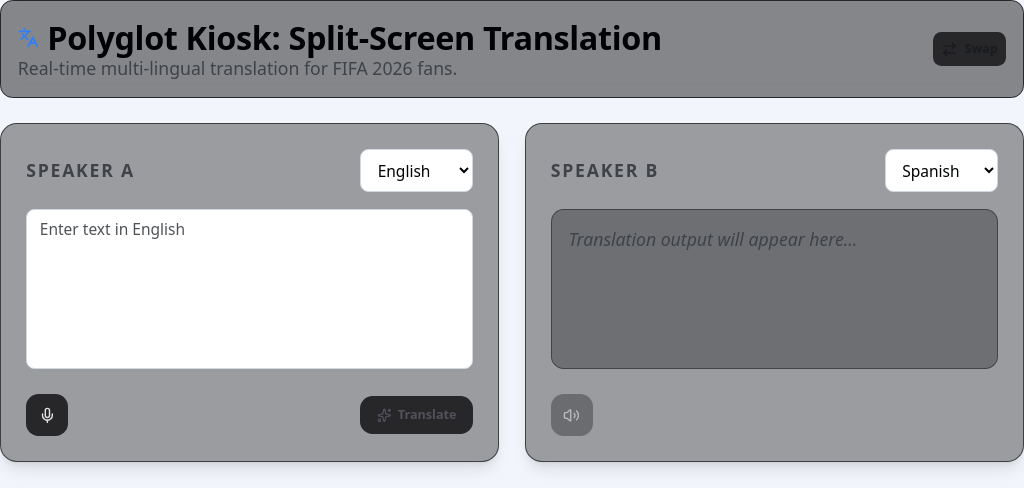
it: PolyglotKiosk Unit Component › translates to Japanese (covers L30 branch)
Select "Japanese" in the dropdown named "Select Target Language for Speaker B": {"x": 941, "y": 171} [885, 149, 998, 192]
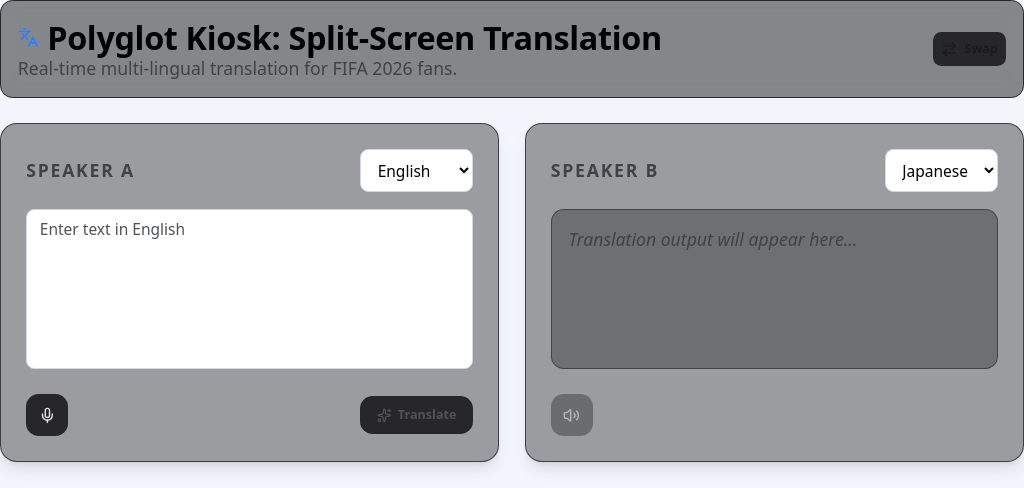
In the text box named "Select Language for Speaker A — English": {"x": 250, "y": 289} [26, 209, 473, 369], type "Welcome"
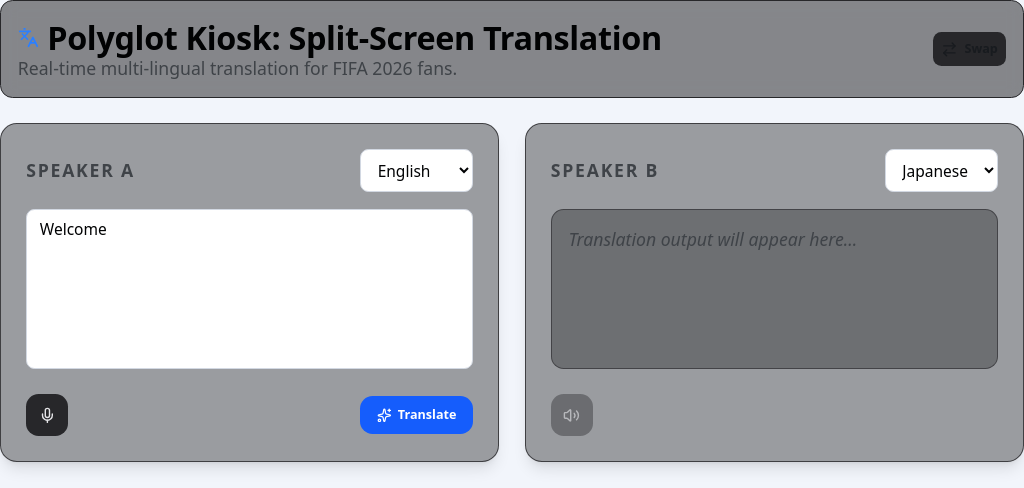
Click the button with aria-label "Translate spoken phrase": {"x": 417, "y": 415} [360, 396, 473, 434]
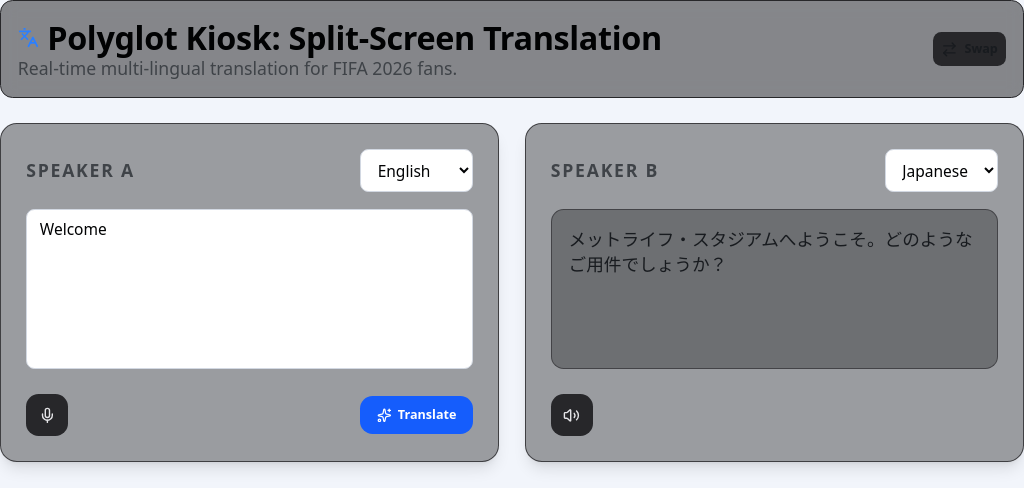
Now the text "メットライフ・スタジアムへようこそ。どのようなご用件でしょうか？" is shown, box [569, 227, 980, 277]
